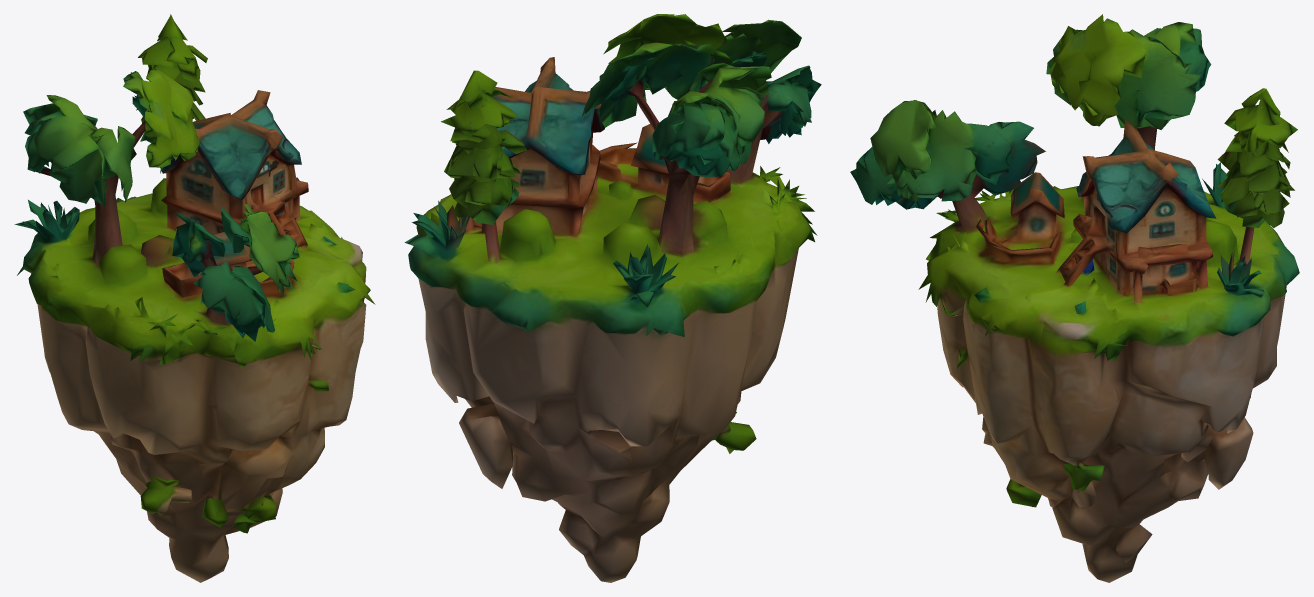
File: floating-garden.glb
The picture shows the model from 3 angles, left to right: view 1: azimuth 30°, elevation 25°; view 2: azimuth 150°, elevation 25°; view 3: azimuth 270°, elevation 25°; orthographic projection. The views are drawn at different scales.
Visible parts, largest first — view 1: tripo_node_d34bbbf9-557b-42df-aa07-f751e45c0644; view 2: tripo_node_d34bbbf9-557b-42df-aa07-f751e45c0644; view 3: tripo_node_d34bbbf9-557b-42df-aa07-f751e45c0644.
Boxes of the visible parts, box(x1,y1,x2,y2) form: tripo_node_d34bbbf9-557b-42df-aa07-f751e45c0644: box(14, 14, 375, 582); tripo_node_d34bbbf9-557b-42df-aa07-f751e45c0644: box(404, 14, 821, 582); tripo_node_d34bbbf9-557b-42df-aa07-f751e45c0644: box(850, 14, 1299, 582).
Size of the model in its own units: 22 by 37.14 by 28.17.
Materials: 1 (1 with a texture image).
